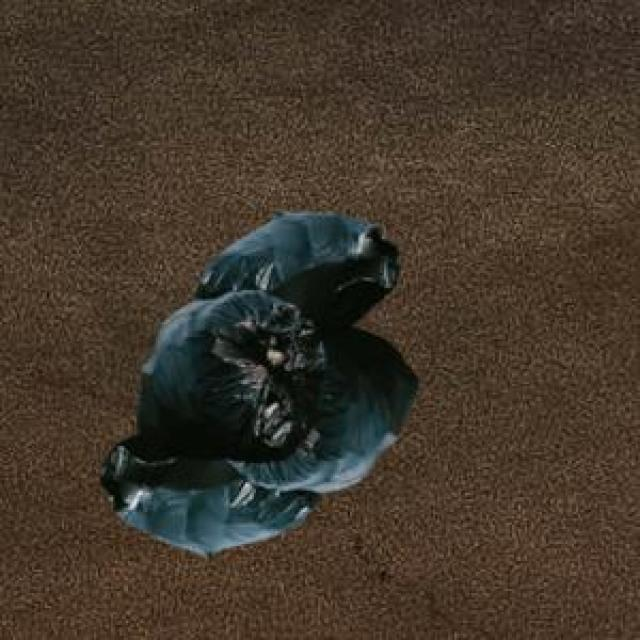waste: (102, 212, 416, 553)
